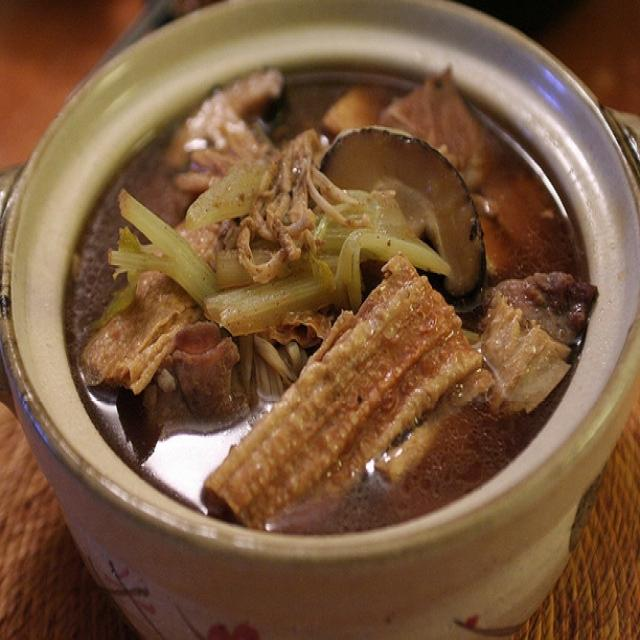汤锅炖物: (49, 53, 599, 538)
